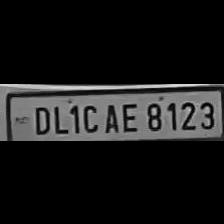1: (162, 98, 178, 130), (63, 100, 77, 134)
2: (176, 98, 196, 130)
3: (196, 97, 214, 129)
8: (142, 98, 164, 132)
A: (100, 99, 119, 133)
C: (80, 100, 100, 132)
D: (30, 102, 52, 134)
E: (118, 98, 140, 132)
L: (52, 102, 72, 134)
